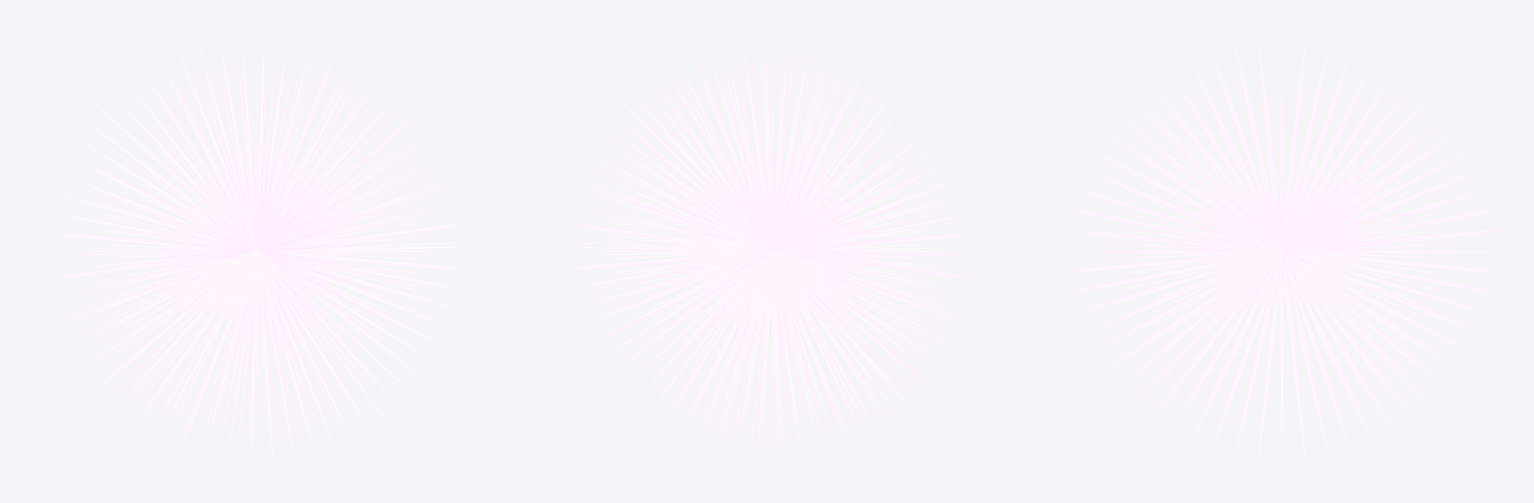
File: energy_flash.glb
The picture shows the model from 3 angles, left to right: view 1: azimuth 30°, elevation 25°; view 2: azimuth 150°, elevation 25°; view 3: azimuth 270°, elevation 25°; orthographic projection. The views are drawn at different scales.
Parts seen in each view (by area): view 1: Flower.007_6, Flower.005_4, Flower.002_1, Flower.001_0, Flower.004_3, Flower.006_5, Flower.003_2; view 2: Flower.006_5, Flower.005_4, Flower.002_1, Flower.001_0, Flower.004_3, Flower.007_6, Flower.003_2; view 3: Flower.003_2, Flower.001_0, Flower.004_3, Flower.002_1, Flower.006_5, Flower.007_6.
Boxes of the visible parts, bbox=[...] form: Flower.007_6: bbox=[31, 28, 483, 474]; Flower.005_4: bbox=[48, 27, 466, 475]; Flower.002_1: bbox=[66, 46, 448, 456]; Flower.001_0: bbox=[139, 19, 377, 483]; Flower.004_3: bbox=[14, 149, 500, 353]; Flower.006_5: bbox=[41, 149, 473, 353]; Flower.003_2: bbox=[89, 119, 425, 383]; Flower.006_5: bbox=[546, 28, 998, 474]; Flower.005_4: bbox=[563, 27, 981, 475]; Flower.002_1: bbox=[581, 46, 963, 456]; Flower.001_0: bbox=[652, 19, 890, 483]; Flower.004_3: bbox=[529, 149, 1015, 353]; Flower.007_6: bbox=[556, 149, 988, 353]; Flower.003_2: bbox=[604, 119, 940, 383]; Flower.003_2: bbox=[1048, 32, 1519, 470]; Flower.001_0: bbox=[1047, 37, 1516, 465]; Flower.004_3: bbox=[1044, 160, 1514, 348]; Flower.002_1: bbox=[1046, 173, 1514, 329]; Flower.006_5: bbox=[1116, 76, 1447, 426]; Flower.007_6: bbox=[1116, 76, 1447, 426].
Bounding box in the file's own units: 2 × 2 × 2.
1 material, 1 textured.
